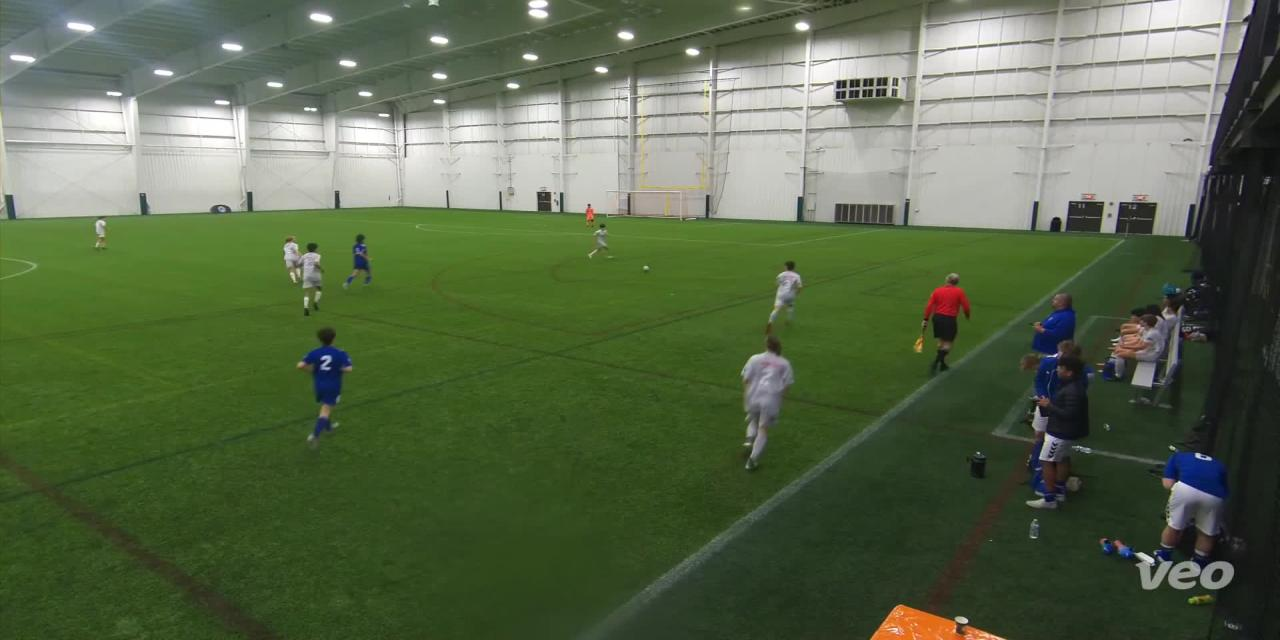goal: (598, 189, 704, 224)
sports ball: (636, 258, 655, 279)
